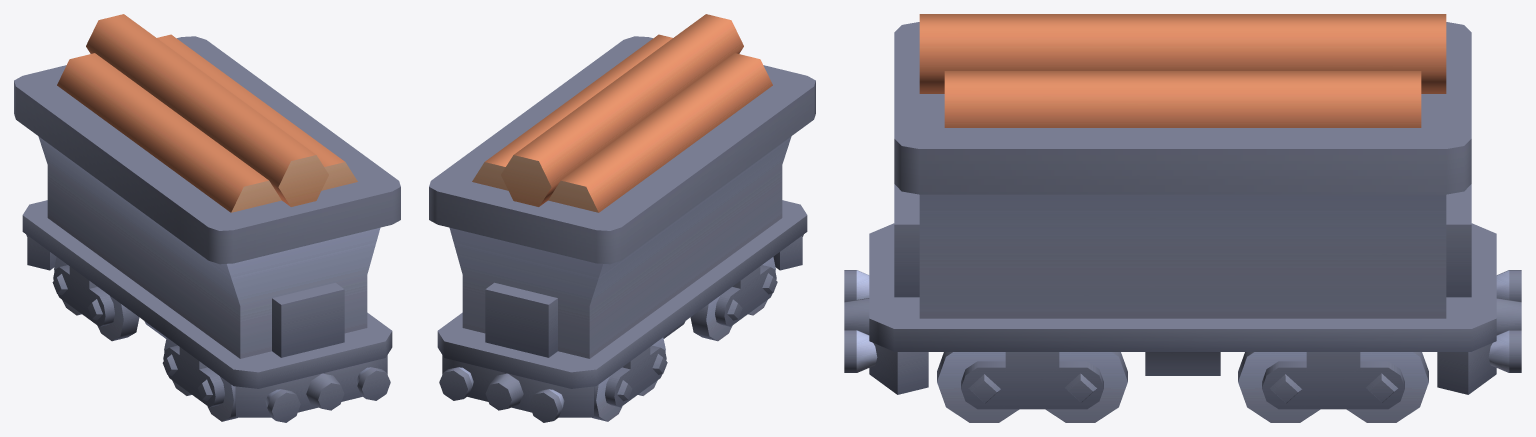
File: kenney-train-train-carriage-wood.glb
The picture shows the model from 3 angles, left to right: view 1: azimuth 30°, elevation 25°; view 2: azimuth 150°, elevation 25°; view 3: azimuth 270°, elevation 25°; orthographic projection. The views are drawn at different scales.
Parts seen in each view (by area): view 1: train-carriage-wood, cargo, wheels-back, wheels-front; view 2: train-carriage-wood, cargo, wheels-front, wheels-back; view 3: train-carriage-wood, cargo, wheels-front, wheels-back.
Part boxes in pixels (box(x1,y1,x2,y2)): train-carriage-wood: box(14, 36, 400, 422); cargo: box(57, 14, 357, 212); wheels-back: box(52, 257, 139, 341); wheels-front: box(162, 337, 237, 421); train-carriage-wood: box(429, 36, 815, 422); cargo: box(472, 14, 772, 212); wheels-front: box(690, 257, 777, 341); wheels-back: box(592, 337, 667, 421); train-carriage-wood: box(844, 22, 1521, 394); cargo: box(919, 14, 1446, 127); wheels-front: box(937, 352, 1127, 422); wheels-back: box(1238, 352, 1428, 422).
Size of the model in its own units: 1.2 by 1.57 by 2.7.
1 material, 1 textured.
